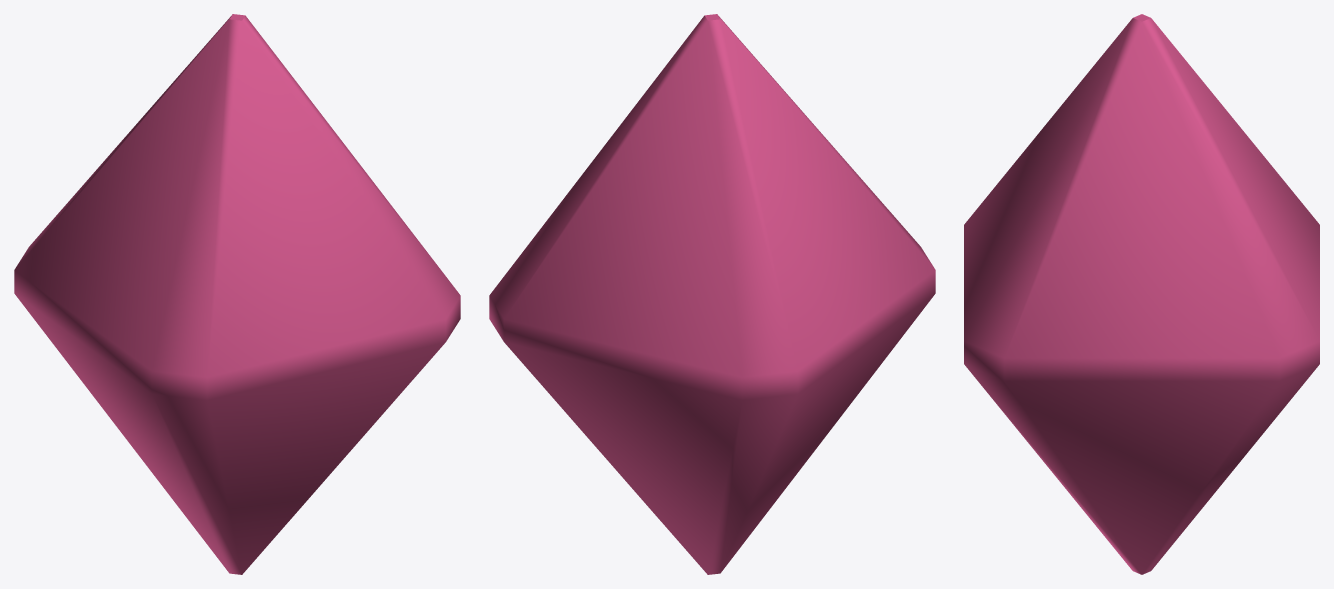
File: Octohedron.glb
The picture shows the model from 3 angles, left to right: view 1: azimuth 30°, elevation 25°; view 2: azimuth 150°, elevation 25°; view 3: azimuth 270°, elevation 25°; orthographic projection.
Visible parts, largest first — view 1: Gem_Diamond; view 2: Gem_Diamond; view 3: Gem_Diamond.
Boxes of the visible parts, x1,y1,x2,y2 form: Gem_Diamond: (14,14,460,574); Gem_Diamond: (489,14,935,574); Gem_Diamond: (964,14,1319,574).
Bounding box in the file's own units: 1.13 × 1.94 × 1.13.
